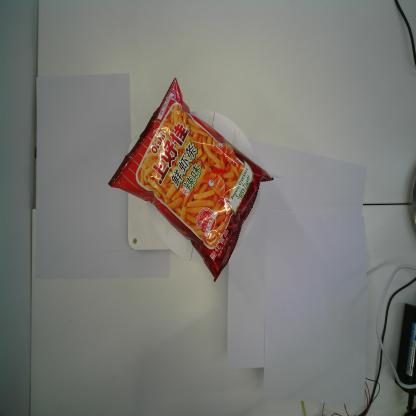Puffed Food: (107, 76, 274, 283)
